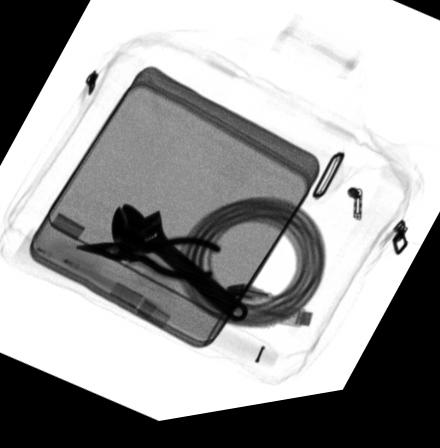Pliers: (72, 241, 221, 291)
Wrench: (111, 204, 247, 329)
